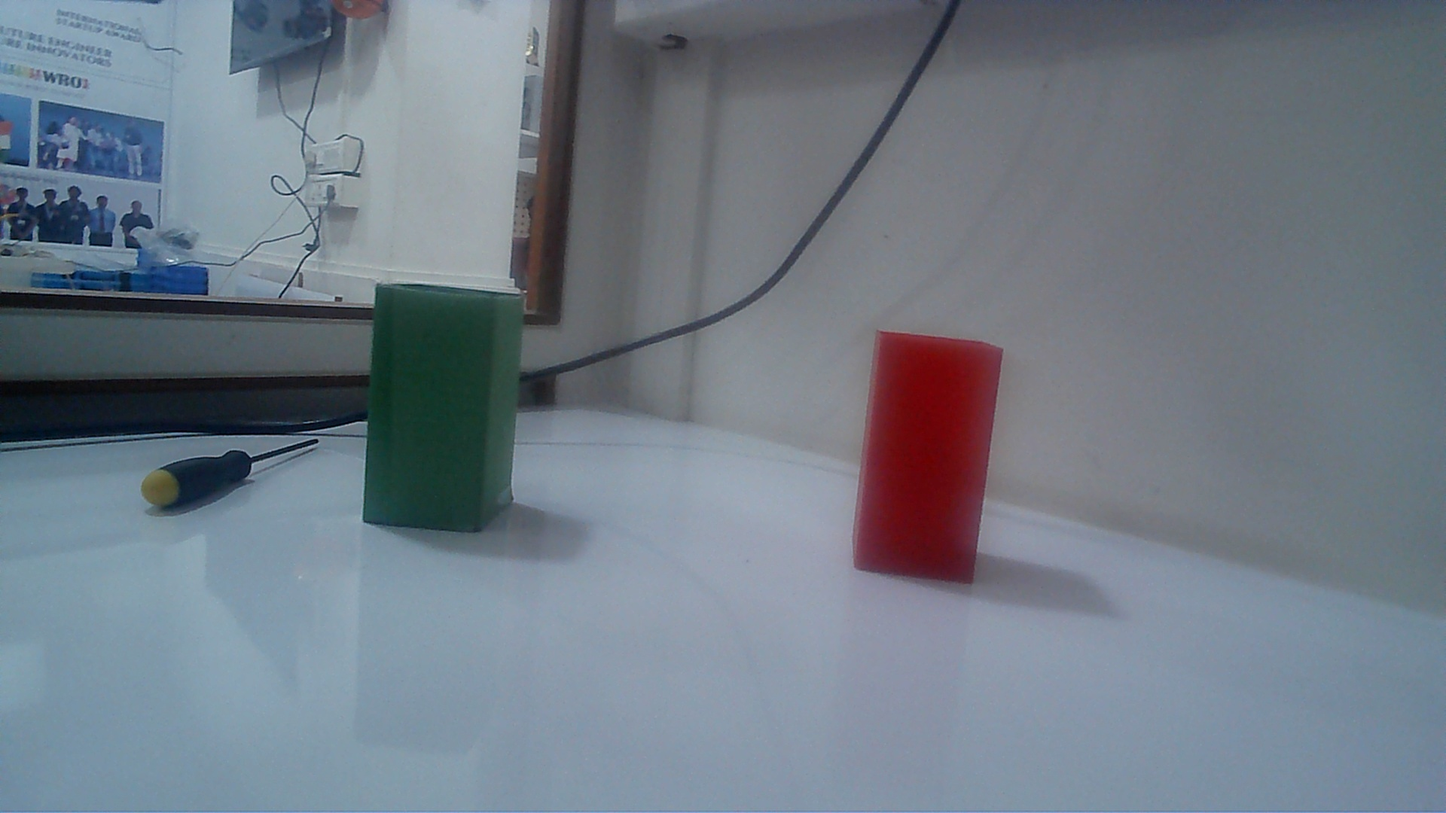green: (359, 288, 520, 523)
